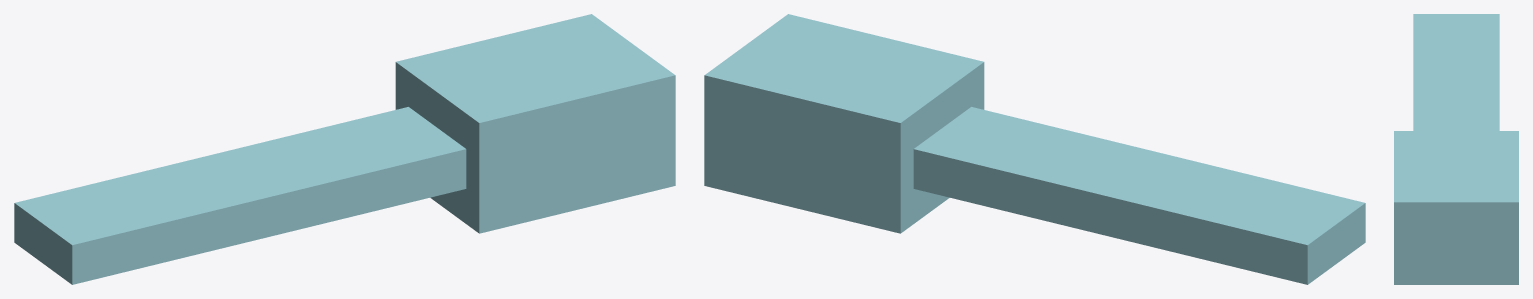
File: cuboid_brush_v8004.obj
3 renders of one model, left to right at view 1: azimuth 30°, elevation 25°; view 2: azimuth 150°, elevation 25°; view 3: azimuth 270°, elevation 25°, orthographic. The views are drawn at different scales.
Size of the model in its own units: 0.1722 by 0.0308 by 0.0423.
Materials: 1 (1 with a texture image).
